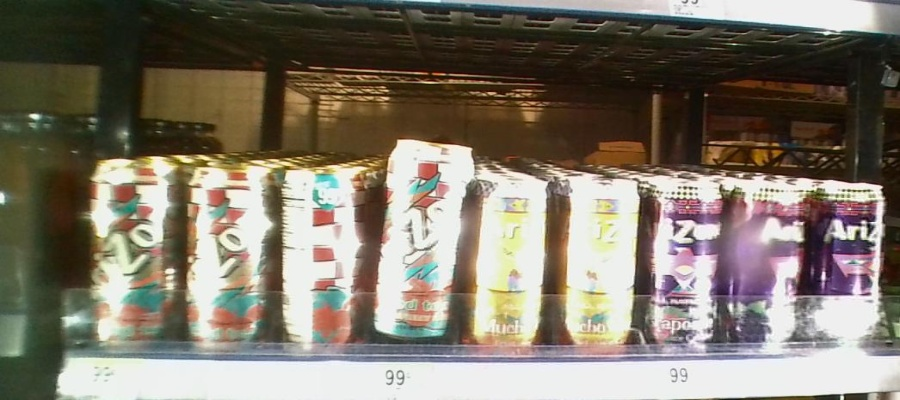bottle: (80, 150, 179, 356), (379, 128, 468, 342), (184, 152, 275, 351), (278, 153, 365, 359), (558, 166, 639, 355), (727, 165, 806, 353), (811, 164, 888, 351), (644, 168, 722, 352), (476, 165, 549, 349)
